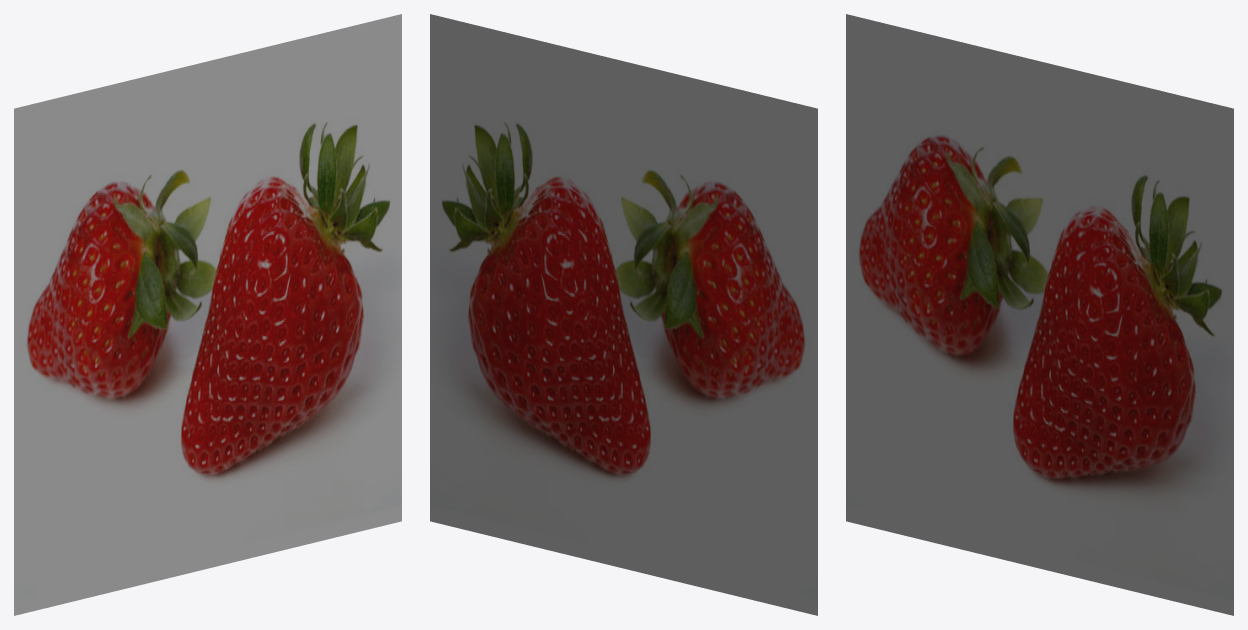
File: capsuni.glb
The picture shows the model from 3 angles, left to right: view 1: azimuth 30°, elevation 25°; view 2: azimuth 150°, elevation 25°; view 3: azimuth 330°, elevation 25°; orthographic projection.
Visible parts, largest first — view 1: node-0; view 2: node-0; view 3: node-0.
Boxes of the visible parts, x1,y1,x2,y2 form: node-0: [14, 14, 401, 615]; node-0: [430, 14, 817, 615]; node-0: [846, 14, 1233, 615].
Bounding box in the file's own units: 381 × 476 × 0.
Materials: 1 (1 with a texture image).
